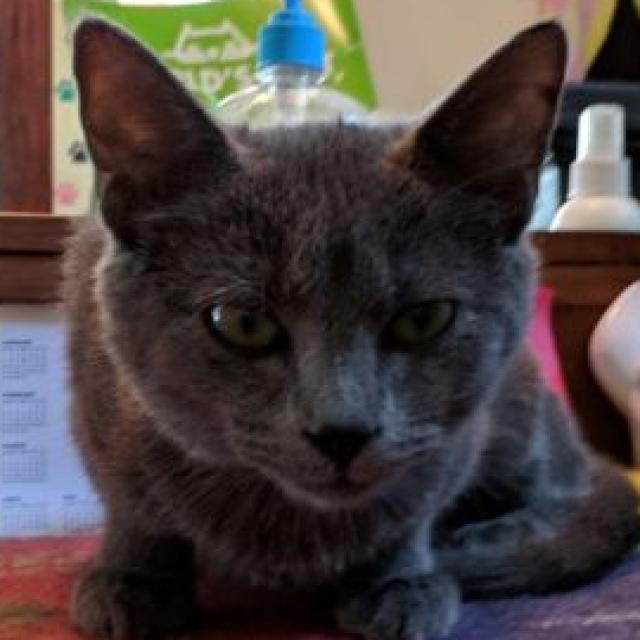Russian Blue: (57, 11, 640, 640)
